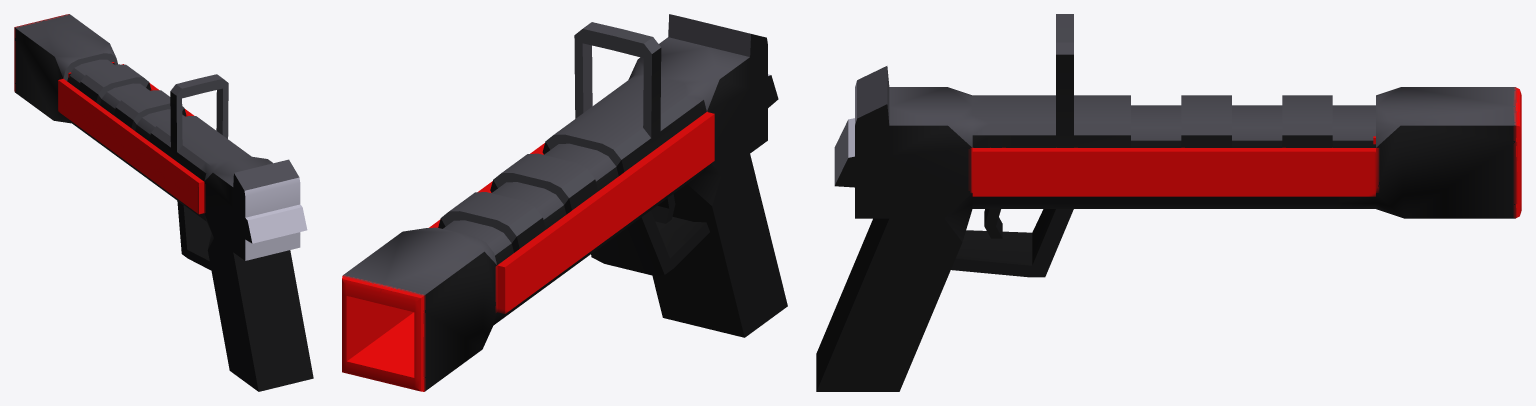
File: Gun 1.fbx
3 renders of one model, left to right at view 1: azimuth 30°, elevation 25°; view 2: azimuth 150°, elevation 25°; view 3: azimuth 270°, elevation 25°, orthographic. The views are drawn at different scales.
Parts seen in each view (by area): view 1: Cube.001; view 2: Cube.001; view 3: Cube.001.
Boxes of the visible parts, x1,y1,x2,y2 form: Cube.001: (14,14,313,391); Cube.001: (342,14,787,391); Cube.001: (816,14,1521,391).
Size of the model in its own units: 98.73 by 346 by 641.
1 material, 1 textured.
